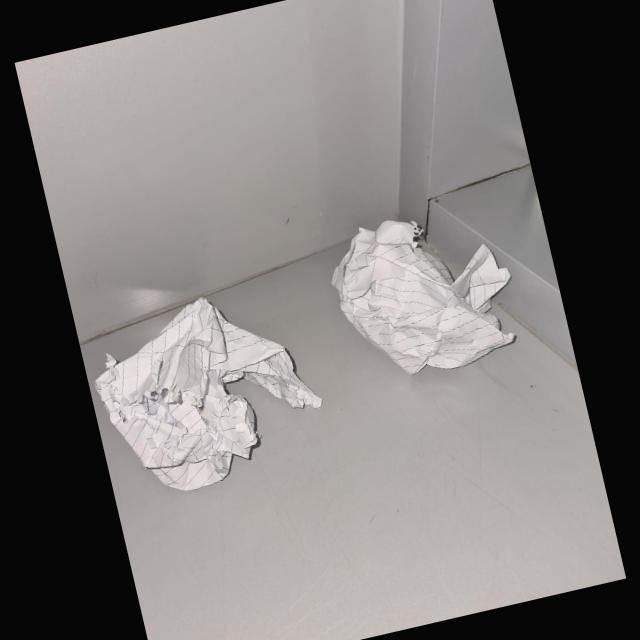trash: (80, 280, 338, 512), (309, 187, 539, 403)
